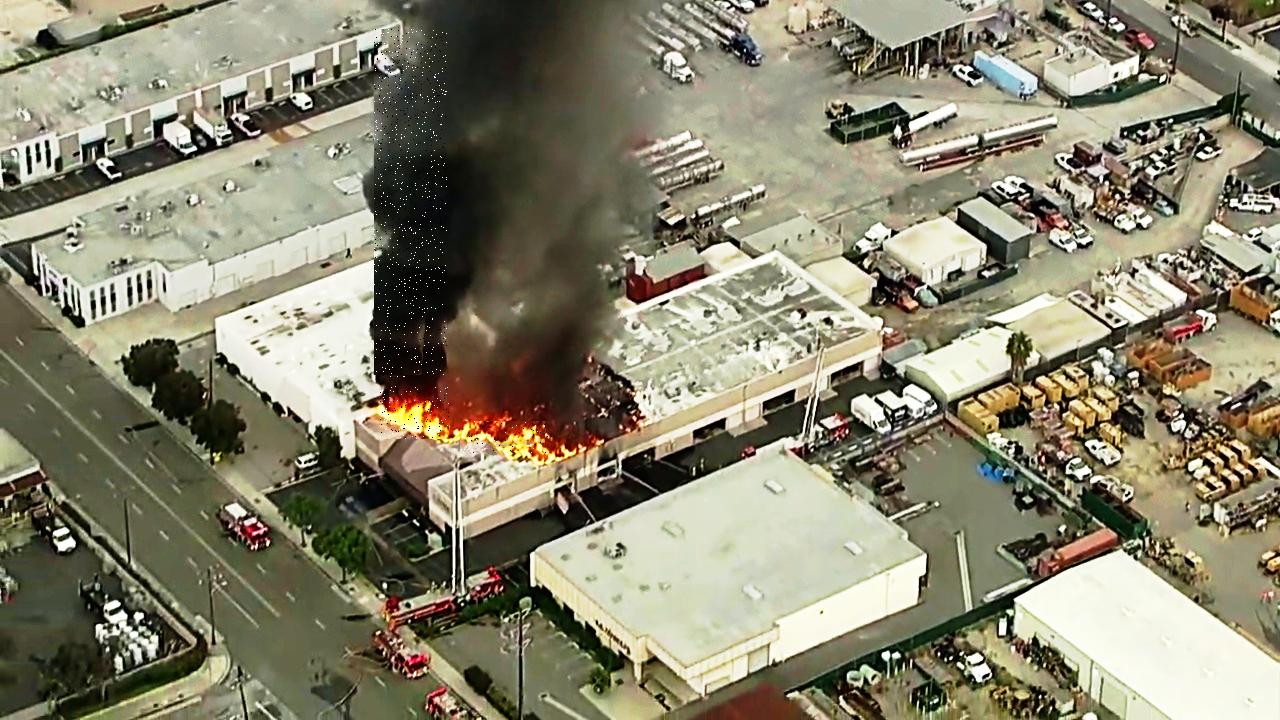fire: (380, 385, 449, 439), (461, 422, 549, 454)
smoke: (374, 30, 447, 378)
